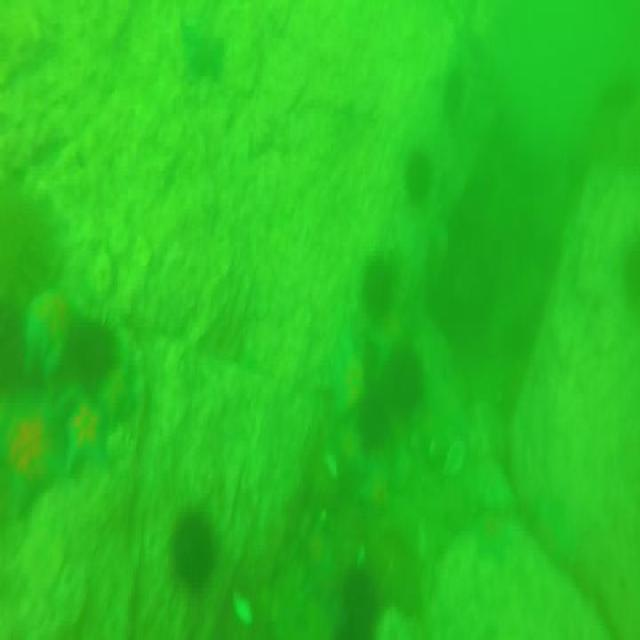echinus: (65, 321, 114, 396), (170, 510, 218, 585), (336, 567, 382, 640), (383, 344, 420, 412), (360, 258, 396, 320), (352, 400, 389, 446), (440, 72, 470, 121), (406, 156, 432, 194)
scallop: (441, 440, 465, 478), (231, 588, 253, 626)
starfish: (2, 395, 66, 503), (60, 398, 116, 476), (182, 15, 222, 80)
